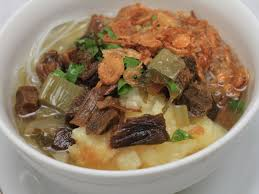soto: (2, 6, 259, 180)
